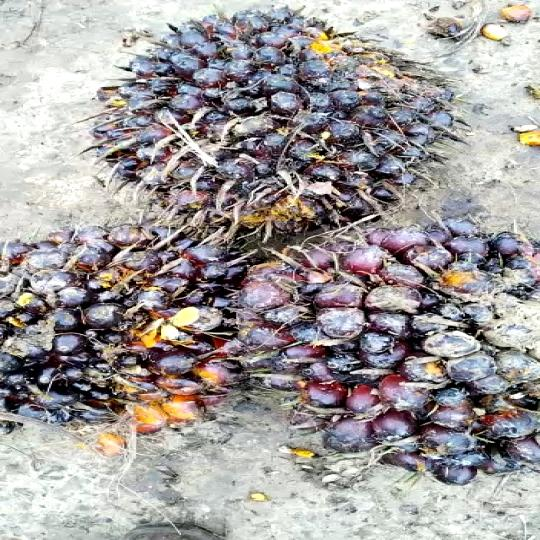kurang masak: (93, 0, 461, 240), (256, 208, 540, 472), (0, 211, 276, 451)
